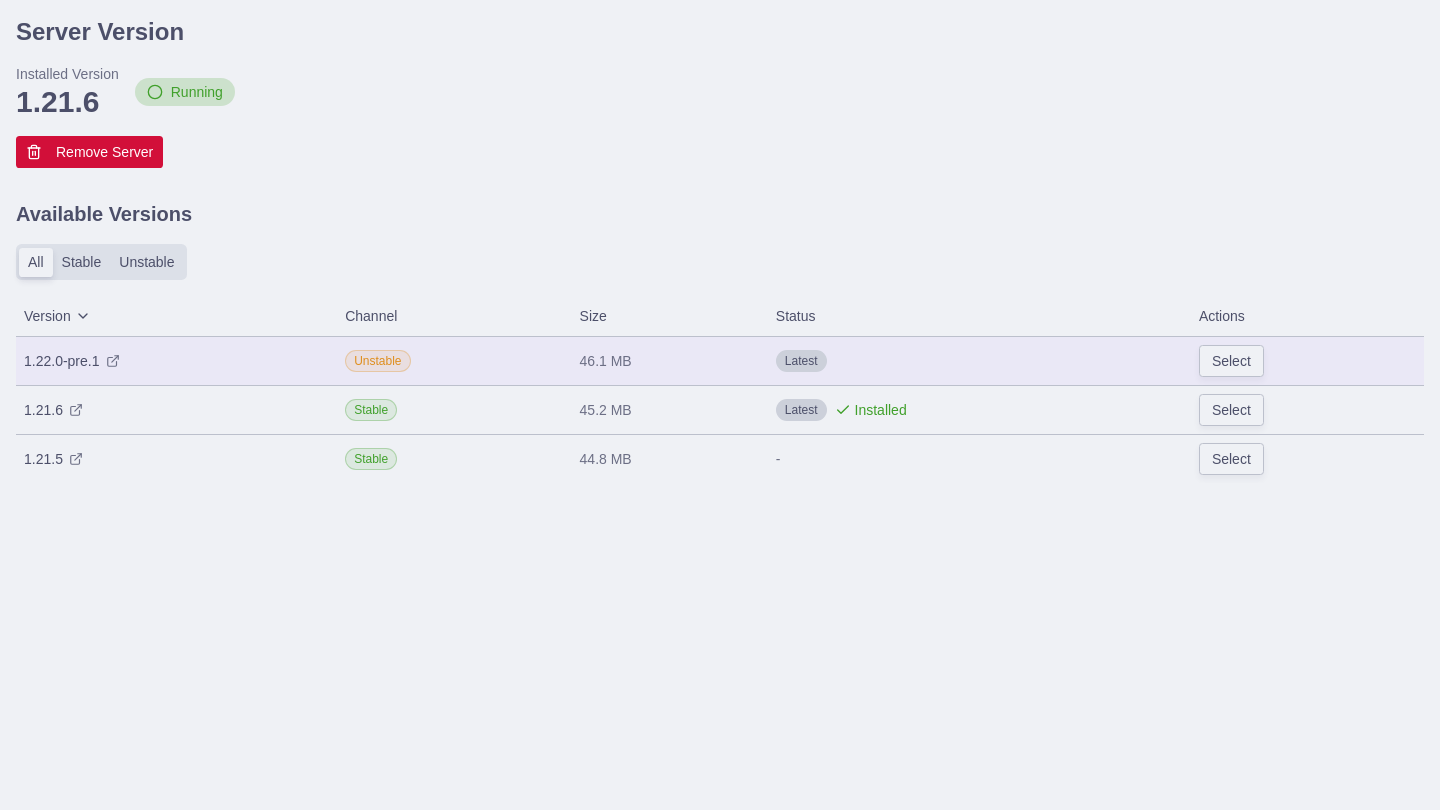
Scenario: VersionPage › install/upgrade dialog (Story 13.4) › shows server running warning when server is running
The width and height of the screenshot is (1440, 810).
Check: the row with test id "version-table-row-1.21.5" is shown, box x1=16 y1=434 x2=1424 y2=482
# Click Select button for a different version
Click the button with test id "version-table-select-1.21.5" at (1231, 458), box x1=1199 y1=442 x2=1264 y2=474
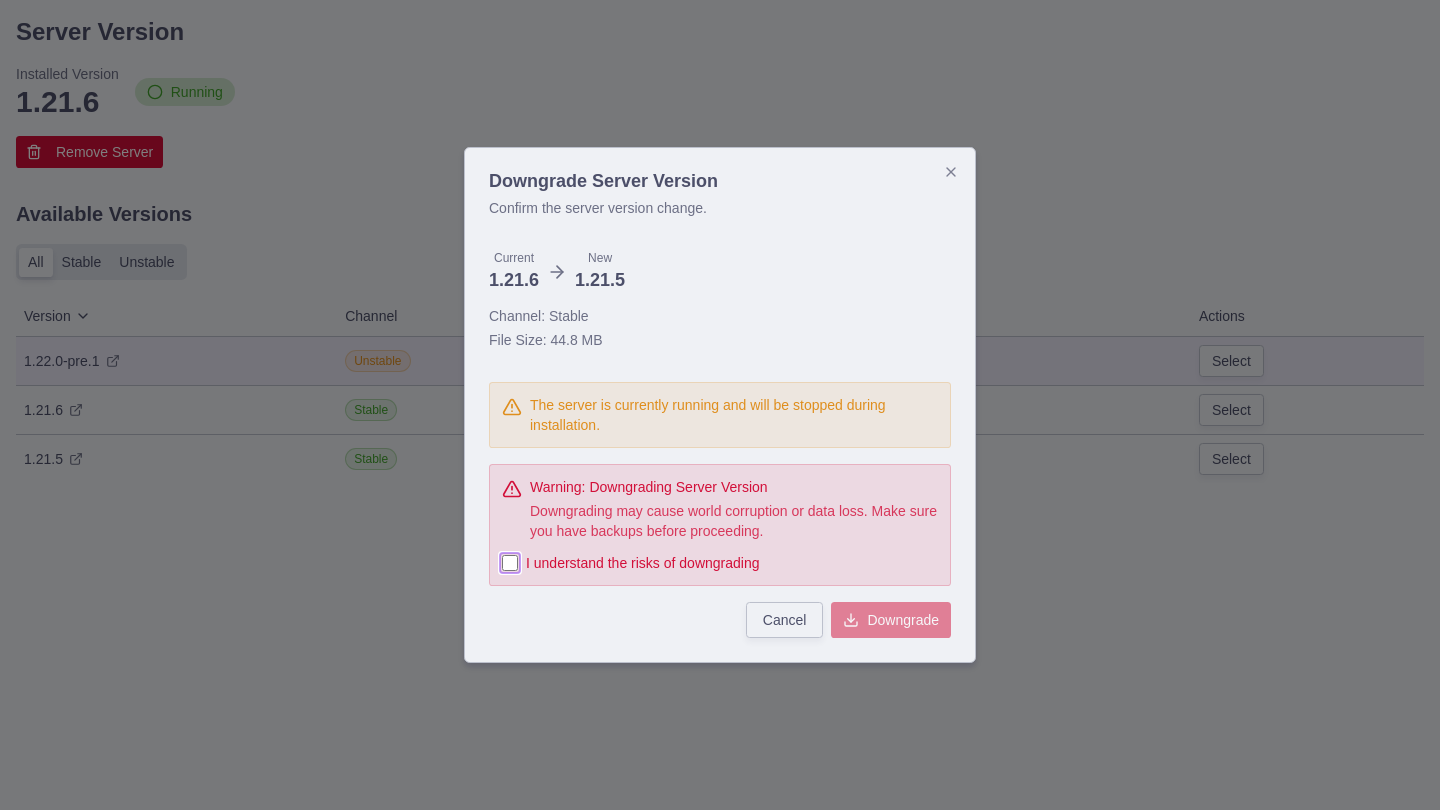
Check: the element with test id "server-running-warning" is shown, box x1=489 y1=382 x2=951 y2=448
